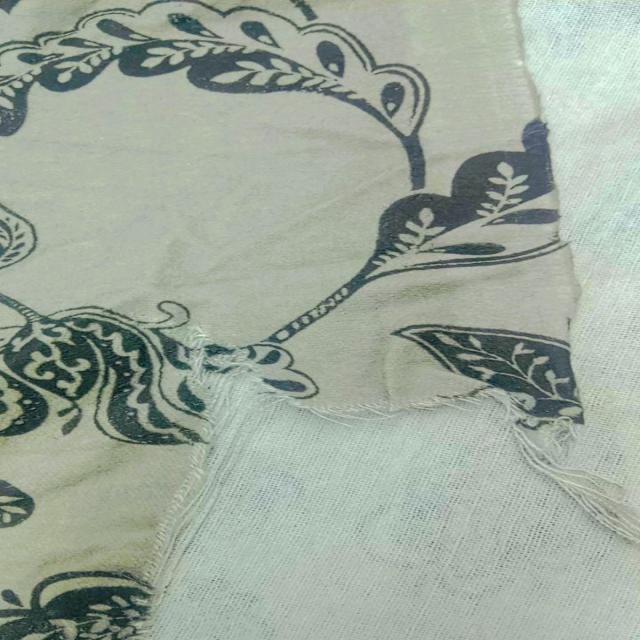cut: (167, 326, 622, 630)
